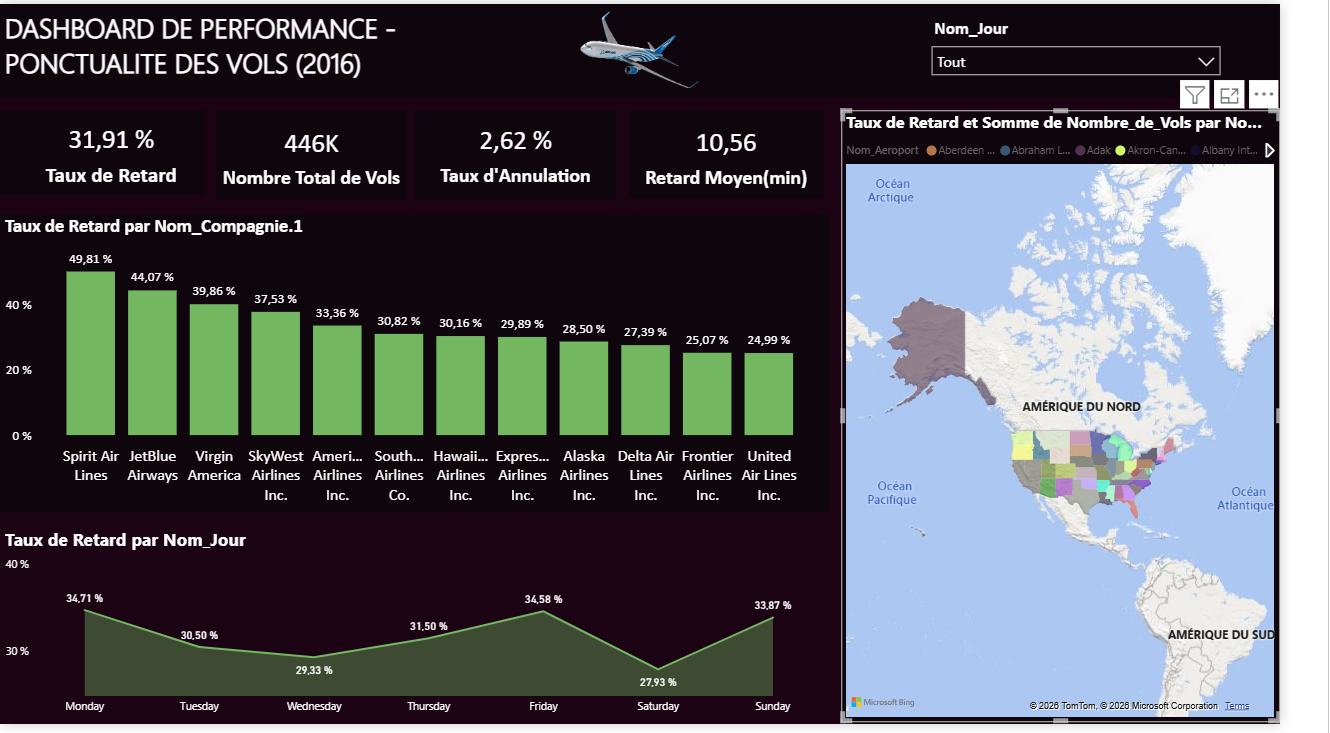

Layout of this report page (visuals, bound fields, positions):
{"tool":"powerbi","page":{"name":"Page 1","canvas":[1280,720],"ordinal":0},"visuals":[{"type":"shape","box":[0,0,1279.5,93.9],"z":0},{"type":"shape","box":[0,106,204.4,84.8],"z":1000},{"type":"textbox","box":[0,0,407.3,81.8],"z":2000},{"type":"card","fields":{"Values":["_Mesures KPIs.Taux de Retard"]},"box":[6.1,104.5,210.5,86.3],"z":3000},{"type":"shape","box":[216.5,106,190.8,89.3],"z":4000},{"type":"shape","box":[414.9,106,201.4,89.3],"z":5000},{"type":"shape","box":[628.4,106,195.3,87.8],"z":6000},{"type":"card","fields":{"Values":["_Mesures KPIs.Nombre Total de Vols"]},"box":[216.5,106,190.8,89.3],"z":7000},{"type":"card","fields":{"Values":["_Mesures KPIs.Taux d'Annulation"]},"box":[425.5,106,181.7,84.8],"z":8000},{"type":"card","fields":{"Values":["_Mesures KPIs.Retard Moyen(min)"]},"box":[628.4,106,195.3,87.8],"z":9000},{"type":"shape","box":[0,210.5,829.8,298.3],"z":10000},{"type":"clusteredColumnChart","fields":{"Category":["ID_Compagnies.Nom_Compagnie.1"],"Y":["_Mesures KPIs.Taux de Retard"]},"box":[0,210.5,823.7,298.3],"z":11000},{"type":"areaChart","fields":{"Category":["Jours_Semaine.Nom_Jour","Vols_2016.Date_du_Vol.Variation.Hiérarchie de dates.Année","Vols_2016.Date_du_Vol.Variation.Hiérarchie de dates.Trimestre","Vols_2016.Date_du_Vol.Variation.Hiérarchie de dates.Mois","Vols_2016.Date_du_Vol.Variation.Hiérarchie de dates.Jour"],"Y":["_Mesures KPIs.Taux de Retard"]},"box":[0,523.6,824,195.4],"z":12000},{"type":"slicer","fields":{"Values":["Jours_Semaine.Nom_Jour"]},"box":[920.6,9.1,308.9,65.1],"z":13000},{"type":"shape","box":[841.9,106,437.6,613.3],"z":14000},{"type":"filledMap","fields":{"Series":["Liste_Aeroport.Nom_Aeroport"],"Category":["Etat_USA.Nom_Etat"]},"box":[841.7,106.7,438.3,611.7],"z":15000},{"type":"image","box":[474.1,0,331.8,94.1],"z":16000}]}

Visuals, with their boxes in screenshot pixels (x1, y1, x2, y2), scaled from the page's 1280x720 canvas onto the 1330x733 screenshot:
shape: [x1=0, y1=0, x2=1329, y2=96]
shape: [x1=0, y1=108, x2=212, y2=194]
textbox: [x1=0, y1=0, x2=423, y2=83]
card - _Mesures KPIs.Taux de Retard: [x1=6, y1=106, x2=225, y2=194]
shape: [x1=225, y1=108, x2=423, y2=199]
shape: [x1=431, y1=108, x2=640, y2=199]
shape: [x1=653, y1=108, x2=856, y2=197]
card - _Mesures KPIs.Nombre Total de Vols: [x1=225, y1=108, x2=423, y2=199]
card - _Mesures KPIs.Taux d'Annulation: [x1=442, y1=108, x2=631, y2=194]
card - _Mesures KPIs.Retard Moyen(min): [x1=653, y1=108, x2=856, y2=197]
shape: [x1=0, y1=214, x2=862, y2=518]
clusteredColumnChart - ID_Compagnies.Nom_Compagnie.1 x _Mesures KPIs.Taux de Retard: [x1=0, y1=214, x2=856, y2=518]
areaChart - Jours_Semaine.Nom_Jour x Vols_2016.Date_du_Vol.Variation.Hiérarchie de dates.Année: [x1=0, y1=533, x2=856, y2=732]
slicer - Jours_Semaine.Nom_Jour: [x1=957, y1=9, x2=1278, y2=76]
shape: [x1=875, y1=108, x2=1329, y2=732]
filledMap - Liste_Aeroport.Nom_Aeroport x Etat_USA.Nom_Etat: [x1=875, y1=109, x2=1329, y2=731]
image: [x1=493, y1=0, x2=837, y2=96]
